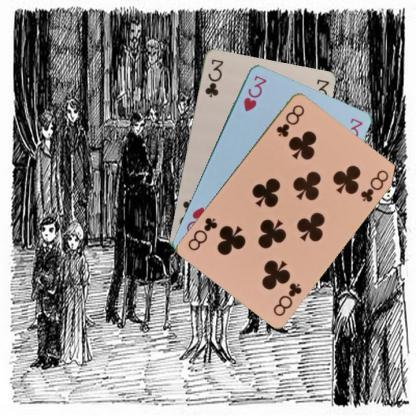3c: (202, 56, 224, 98)
3h: (240, 72, 268, 113)
8c: (270, 280, 303, 317), (273, 102, 306, 138)
